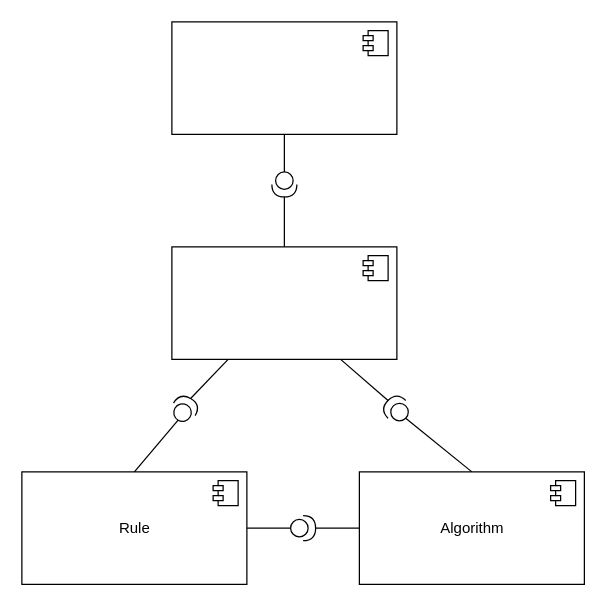
The diagram is 606 pixels wide and 606 high, and some of its shapes have lost their labels. The centre of each missing label's shape, as x and y in pixels:
"Interface" goes at (284,77).
"Manager" goes at (284,302).
